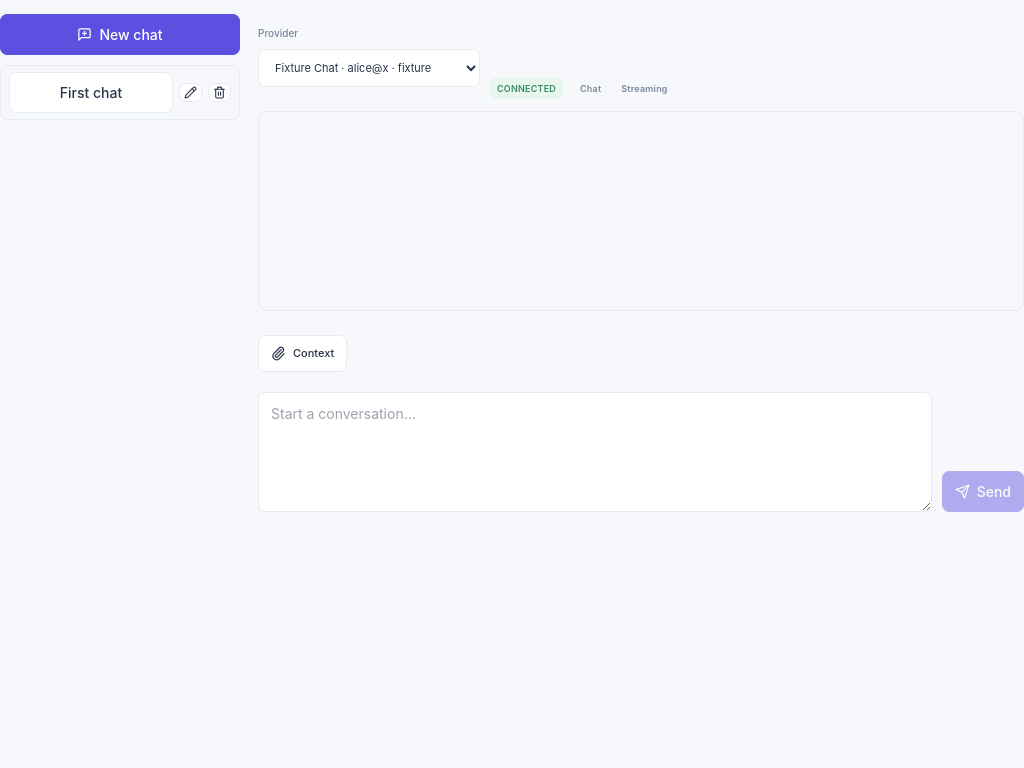
it: ChatPanel › streams deltas into the thread and Stop cancels
Later steps or results of the test are not shown.
Check: the button "First chat" is shown, box top-left (9, 72), bottom-right (173, 113)
Type "hi" into the text box named "Message" at (595, 452), box top-left (258, 392), bottom-right (932, 512)
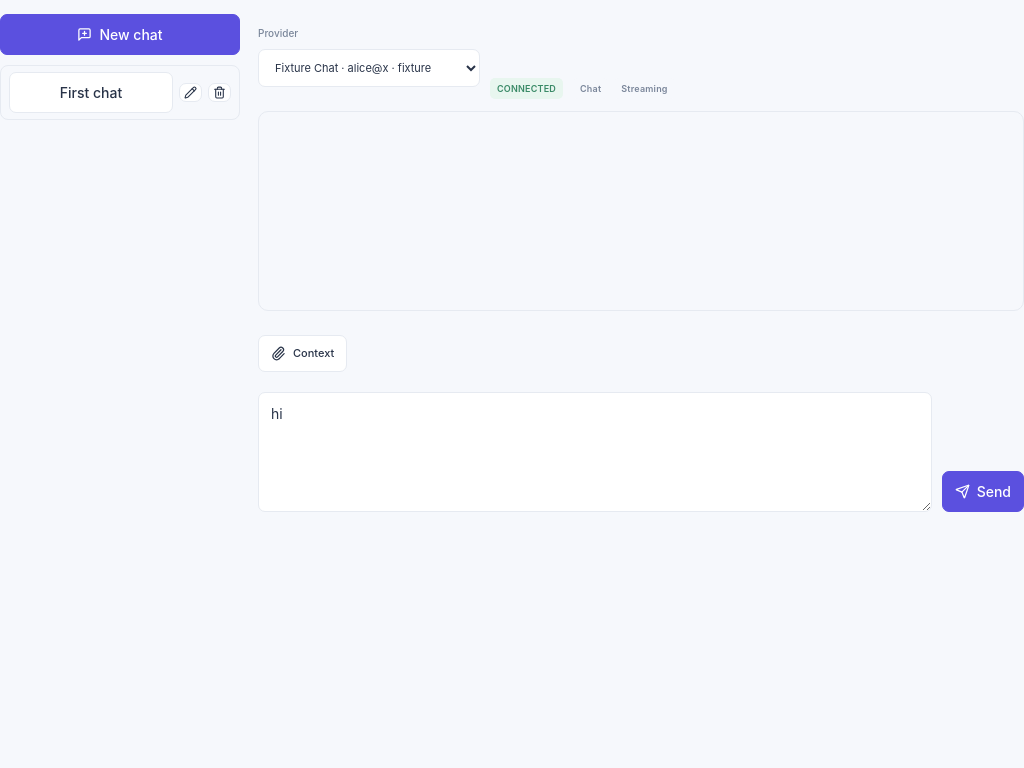
Click the button "Send" at (983, 491), box top-left (942, 470), bottom-right (1023, 512)
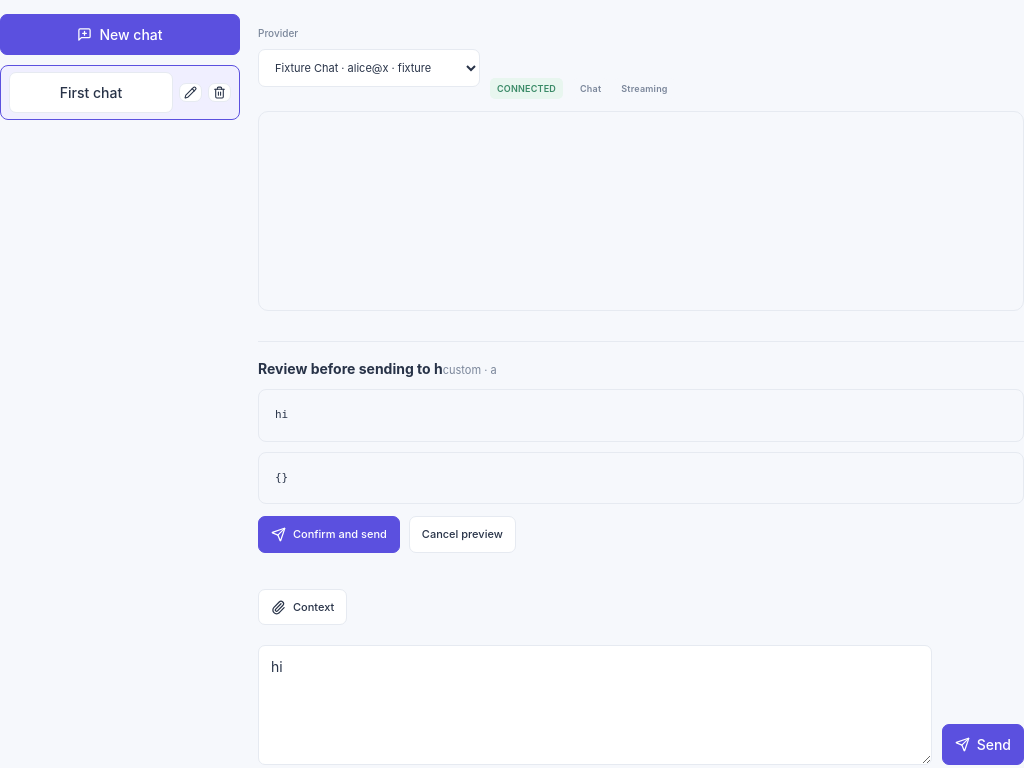
Click the button "Confirm and send" at (329, 535), box top-left (258, 516), bottom-right (400, 553)
(page scrolled)
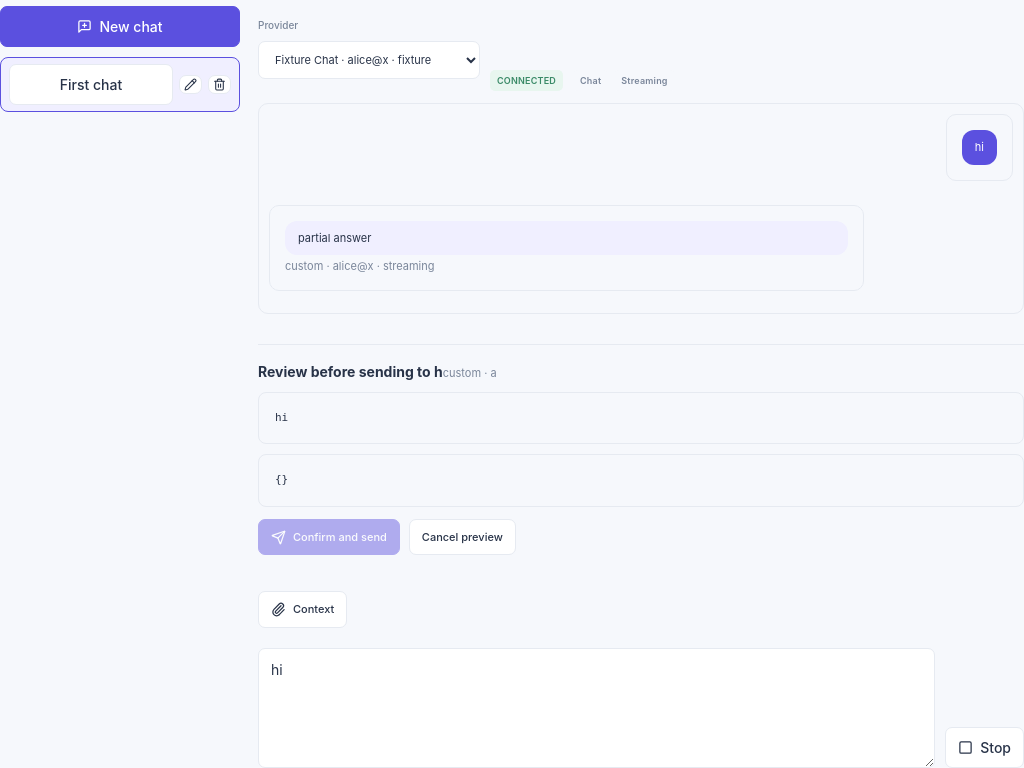
Check: the text "partial answer" is shown, box top-left (285, 220), bottom-right (848, 255)
